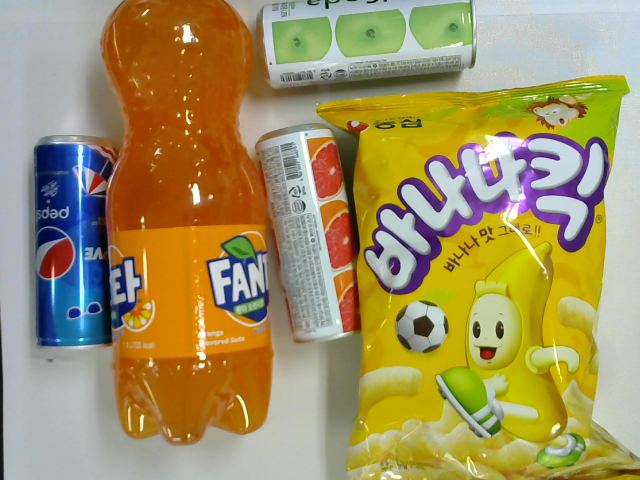Banana_Kick: (316, 74, 640, 480)
Demisoda_Apple_Can_250ml: (252, 1, 478, 89)
Demisoda_Grapefruit_Can_250ml: (253, 123, 361, 344)
Hwanta_Orange_1.5L: (99, 1, 274, 449)
Pepsi_Cola_Can_250ml: (28, 135, 124, 353)
